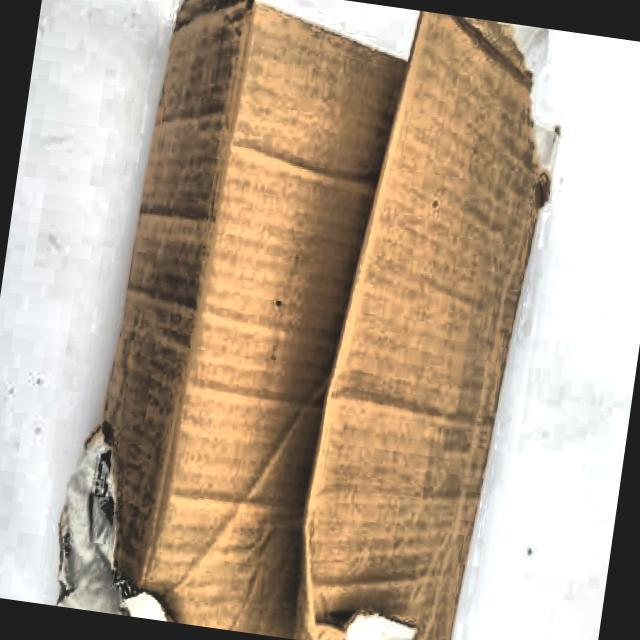cardboard: (72, 0, 575, 640)
